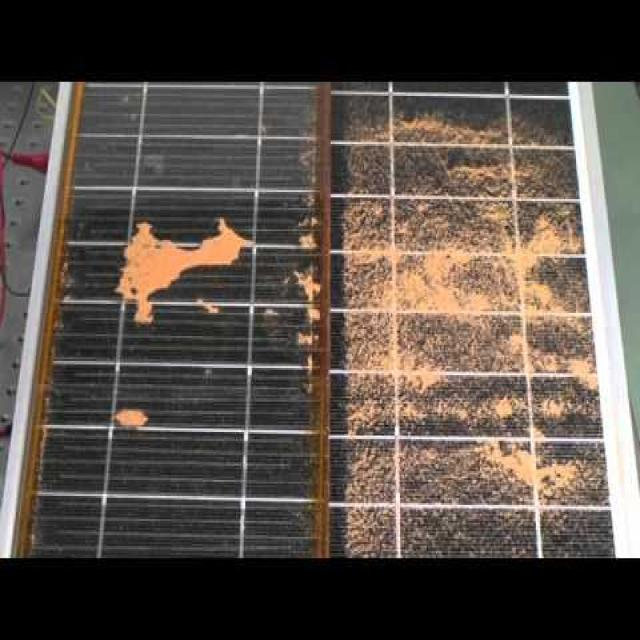dust-solar-panel: (38, 80, 586, 565)
